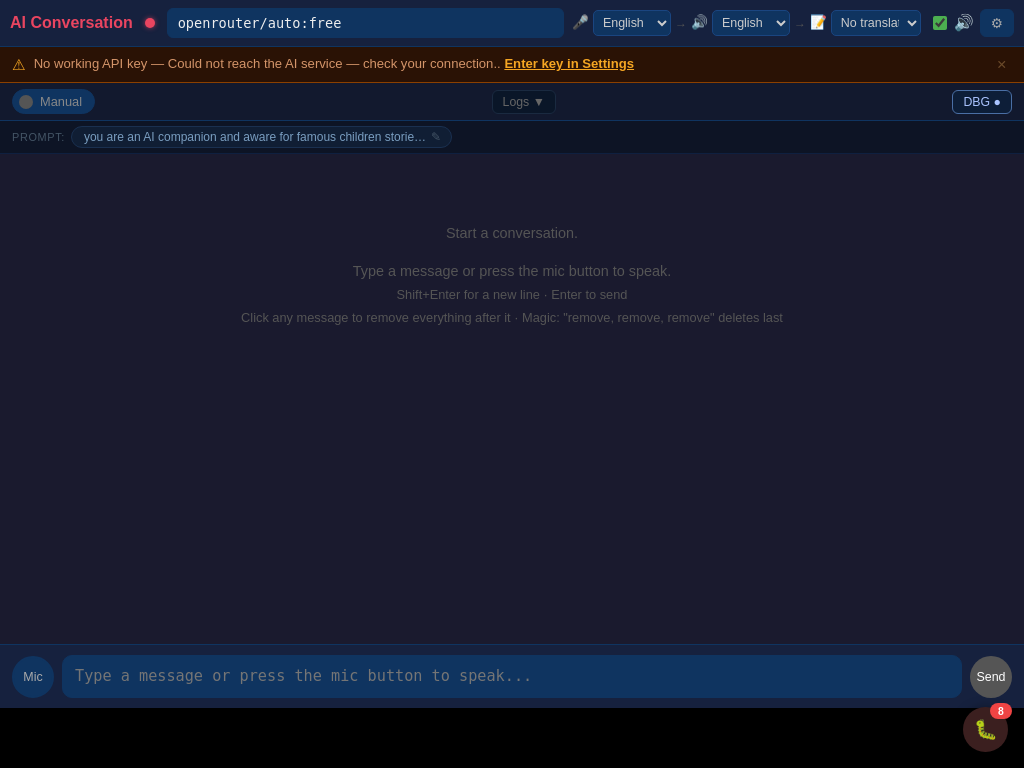
it: Debug Mode › toggles debug mode off when clicking again
Note: Click to disable
Click the button "DBG ●" at (983, 102), box [953,90,1013,114]
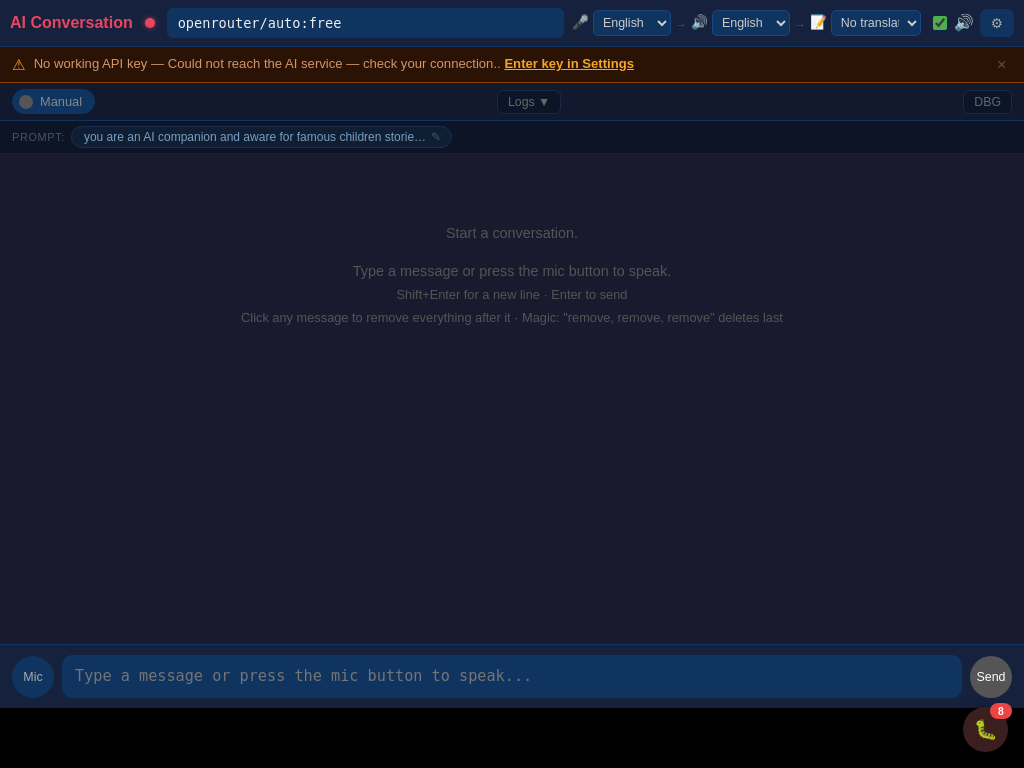
Expected: the button "DBG" is shown, [963,90,1012,114]
